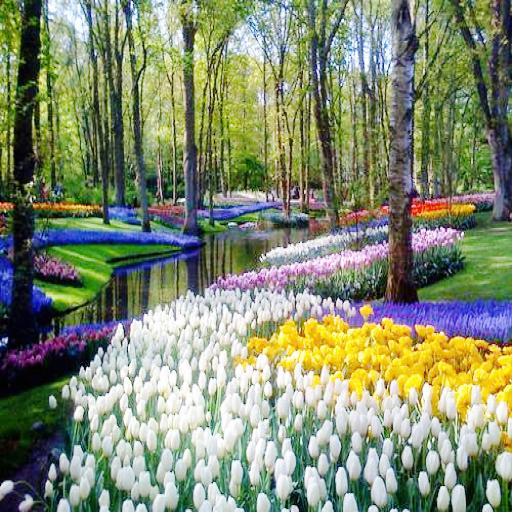tulip: (494, 443, 512, 486), (369, 475, 393, 507), (191, 426, 210, 463), (461, 424, 479, 458), (302, 432, 322, 462), (249, 458, 266, 492), (223, 414, 247, 438), (303, 475, 321, 507), (274, 476, 293, 504), (149, 484, 168, 512), (452, 480, 468, 512), (349, 400, 365, 430), (119, 459, 135, 489), (441, 394, 459, 420), (484, 478, 503, 502), (334, 403, 349, 433), (441, 434, 455, 466), (156, 450, 172, 478), (165, 481, 181, 509), (330, 433, 346, 460), (201, 463, 217, 489), (415, 474, 433, 497), (454, 442, 468, 471), (167, 426, 182, 453), (251, 491, 270, 512), (226, 458, 244, 480), (487, 420, 501, 448), (407, 421, 421, 449), (368, 412, 381, 442), (334, 466, 349, 492), (466, 400, 480, 427), (401, 444, 415, 471), (69, 452, 83, 479), (174, 456, 188, 483), (188, 483, 206, 504), (422, 381, 434, 412), (425, 452, 441, 475), (215, 358, 228, 386), (380, 438, 395, 462), (272, 458, 292, 476), (348, 455, 363, 479), (343, 490, 359, 512), (391, 406, 404, 432), (277, 393, 289, 421), (435, 485, 451, 505), (144, 425, 157, 449), (67, 480, 80, 504), (292, 390, 306, 412), (316, 394, 330, 416), (257, 422, 272, 442), (386, 464, 396, 494), (254, 438, 267, 460), (210, 484, 223, 506), (98, 488, 111, 510), (497, 399, 507, 427), (102, 433, 116, 453), (389, 378, 402, 399), (351, 430, 363, 452), (317, 453, 329, 475), (488, 393, 498, 418), (208, 436, 220, 456), (250, 404, 262, 423), (79, 475, 91, 494), (242, 440, 253, 460), (85, 449, 95, 470), (281, 440, 293, 457), (222, 495, 234, 512), (123, 497, 136, 512), (369, 448, 380, 465), (276, 424, 288, 438), (182, 365, 194, 378), (296, 412, 304, 428)
